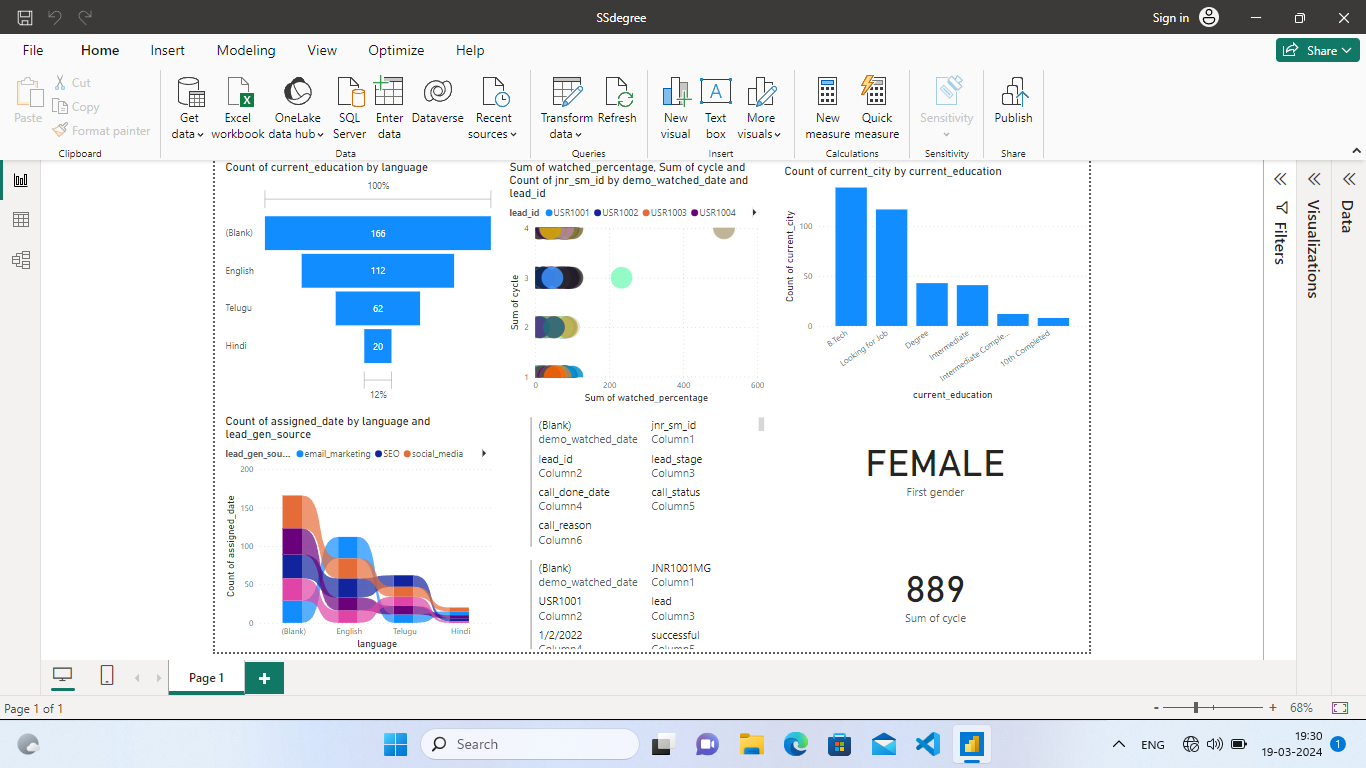

Layout of this report page (visuals, bound fields, positions):
{"tool":"powerbi","page":{"name":"Page 1","canvas":[1280,720],"ordinal":1},"visuals":[{"type":"funnel","fields":{"Category":["leads_demo_watched_details.language"],"Y":["leads_basic_details.current_education"]},"box":[10.3,0,403.4,360.3],"z":0},{"type":"scatterChart","fields":{"Category":["leads_demo_watched_details.demo_watched_date"],"Series":["sales_managers_assigned_leads_details.lead_id"],"X":["leads_demo_watched_details.watched_percentage"],"Y":["sales_managers_assigned_leads_details.cycle"],"Size":["sales_managers_assigned_leads_details.jnr_sm_id"]},"box":[425.9,0,382.8,360.3],"z":1000},{"type":"columnChart","fields":{"Category":["leads_basic_details.current_education"],"Y":["leads_basic_details.current_city"]},"box":[827.6,5.2,451.7,350],"z":2000},{"type":"card","fields":{"Values":["leads_basic_details.gender"]},"box":[828.3,360,451.7,175],"z":3000},{"type":"card","fields":{"Values":["sales_managers_assigned_leads_details.cycle"]},"box":[828,545,452,175],"z":4000},{"type":"ribbonChart","fields":{"Category":["leads_demo_watched_details.language"],"Y":["sales_managers_assigned_leads_details.assigned_date"],"Series":["leads_basic_details.lead_gen_source"]},"box":[11.7,371.7,402.4,348.3],"z":5000},{"type":"pieChart","fields":{"Category":["leads_demo_watched_details.lead_id"],"Y":["leads_demo_watched_details.demo_watched_date"]},"box":[413.8,447.5,505,272.5],"z":6000}]}

Visuals, with their boxes on the page's 1280x720 design canvas (x1, y1, x2, y2). These are canvas units, not pixel positions in the 1366x768 screenshot, which may show the page scaled, cropped or inside an application window:
funnel - leads_demo_watched_details.language x leads_basic_details.current_education: 10:0:414:360
scatterChart - leads_demo_watched_details.demo_watched_date x sales_managers_assigned_leads_details.lead_id: 426:0:809:360
columnChart - leads_basic_details.current_education x leads_basic_details.current_city: 828:5:1279:355
card - leads_basic_details.gender: 828:360:1280:535
card - sales_managers_assigned_leads_details.cycle: 828:545:1280:720
ribbonChart - leads_demo_watched_details.language x sales_managers_assigned_leads_details.assigned_date: 12:372:414:720
pieChart - leads_demo_watched_details.lead_id x leads_demo_watched_details.demo_watched_date: 414:448:919:720
